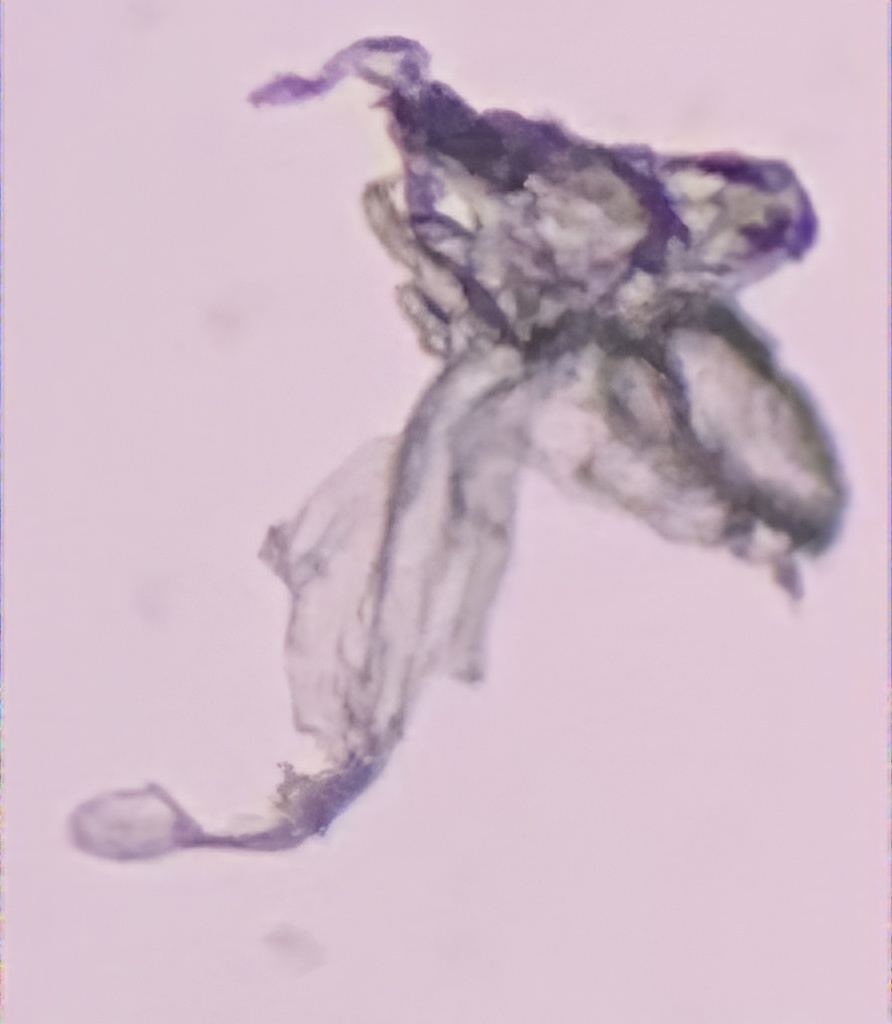microplastic: (58, 29, 861, 897)
